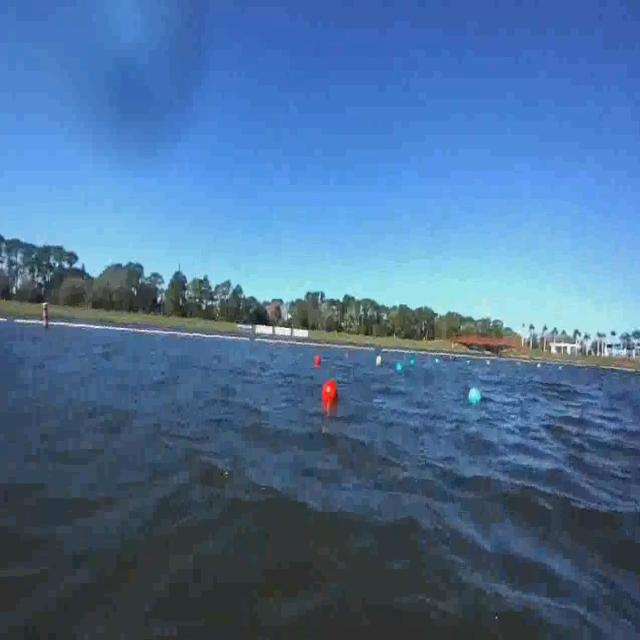green-buoy: (468, 387, 482, 406), (395, 362, 404, 372), (410, 358, 417, 367)
red-buoy: (326, 378, 340, 400)
red-column-buoy: (315, 354, 322, 368)
yellow-buoy: (374, 352, 384, 370)
